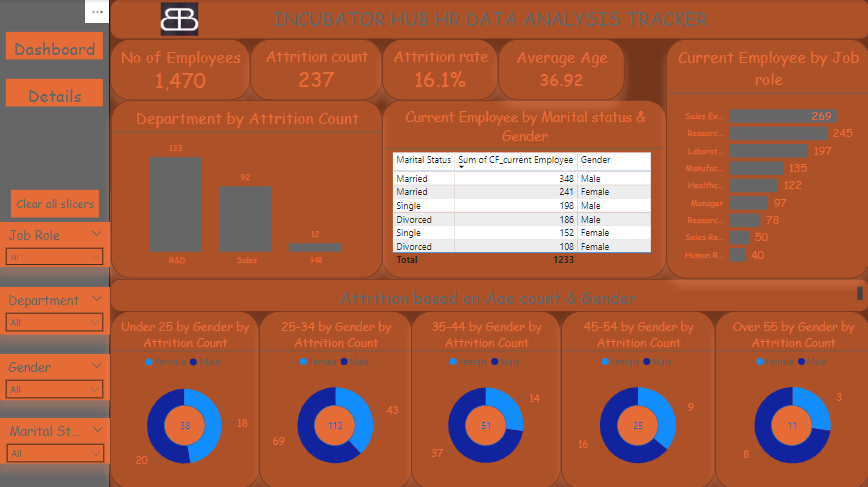

This screenshot's page, from the dashboard's own definition file:
{"tool":"powerbi","page":{"name":"HR view1","canvas":[1280,720],"ordinal":0},"visuals":[{"type":"textbox","box":[163,0,1117,59],"z":0},{"type":"card","title":"No of Employees","fields":{"Values":["Sum(HR data.Employee Count)"]},"box":[163,59,206,90],"z":1000},{"type":"slicer","title":"Current Employees","fields":{"Values":["HR data.Job Role"]},"box":[0,260,163,175],"z":2000},{"type":"card","title":"Attrition count","fields":{"Values":["Sum(HR data.Count of Attrition)"]},"box":[369,59,194,90],"z":3000},{"type":"card","title":"Attrition rate","fields":{"Values":["HR data.Attrition rate"]},"box":[563,59,170,90],"z":4000},{"type":"shape","box":[0,0,163,720],"z":5000},{"type":"actionButton","box":[11,48,142,40],"z":6000},{"type":"tableEx","title":"Current Employee by Marital status & Gender","fields":{"Values":["HR data.Marital Status","Sum(HR data.CF_current Employee)","HR data.Gender"]},"box":[563,149,418,262],"z":7000},{"type":"actionButton","box":[11,118,142,40],"z":8000},{"type":"slicer","title":"No of Employees","fields":{"Values":["HR data.Department"]},"box":[0,423,163,70],"z":9000},{"type":"slicer","title":"No of Employees","fields":{"Values":["HR data.Gender"]},"box":[0,521,163,68],"z":10000},{"type":"slicer","title":"No of Employees","fields":{"Values":["HR data.Job Role"]},"box":[0,327,163,66],"z":11000},{"type":"slicer","title":"No of Employees","fields":{"Values":["HR data.Marital Status"]},"box":[1,615,163,67],"z":12000},{"type":"card","title":"Average Age","fields":{"Values":["Avg(HR data.Age)"]},"box":[733,59,186,90],"z":13000},{"type":"columnChart","title":"Educatn field by Attrition Count","fields":{"Category":["HR data.Education Field"],"Y":["Sum(HR data.Count of Attrition)"]},"box":[164,149,399,262],"z":14000},{"type":"textbox","box":[163,411,1117,48],"z":15000},{"type":"image","box":[228,0,75,59],"z":16000},{"type":"clusteredBarChart","title":"Current Employee by Job role","fields":{"Category":["HR data.Job Role"],"Y":["Sum(HR data.CF_current Employee)"]},"box":[980,59,300,352],"z":17000},{"type":"donutChart","title":"Under 25 by Gender by Attrition Count","fields":{"Category":["HR data.Gender"],"Y":["Sum(HR data.Count of Attrition)"],"Series":["HR data.CF_age band"]},"box":[163,458,218.5,262],"z":18000},{"type":"actionButton","box":[17,280,129,40],"z":19000},{"type":"donutChart","title":"25-34 by Gender by Attrition Count","fields":{"Category":["HR data.Gender"],"Y":["Sum(HR data.Count of Attrition)"],"Series":["HR data.CF_age band"]},"box":[381.5,458,224.5,262],"z":20000},{"type":"donutChart","title":"35-44 by Gender by Attrition Count","fields":{"Category":["HR data.Gender"],"Y":["Sum(HR data.Count of Attrition)"],"Series":["HR data.CF_age band"]},"box":[606,458,220,262],"z":21000},{"type":"donutChart","title":"45-54 by Gender by Attrition Count","fields":{"Category":["HR data.Gender"],"Y":["Sum(HR data.Count of Attrition)"],"Series":["HR data.CF_age band"]},"box":[826,458,226,262],"z":22000},{"type":"donutChart","title":"Over 55 by Gender by Attrition Count","fields":{"Category":["HR data.Gender"],"Y":["Sum(HR data.Count of Attrition)"],"Series":["HR data.CF_age band"]},"box":[1052,458,228,262],"z":23000},{"type":"shape","box":[242,597,61,60],"z":24000},{"type":"shape","box":[1135,597,61,60],"z":25000},{"type":"shape","box":[908,597,61,60],"z":26000},{"type":"shape","box":[685,597,61,60],"z":27000},{"type":"shape","box":[463,597,61,60],"z":28000}]}

Visuals, with their boxes in screenshot pixels (x1, y1, x2, y2), scaled from the page's 1280x720 canvas onto the 868x487 screenshot:
textbox: l=111, t=0, r=867, b=40
"No of Employees" card: l=111, t=40, r=250, b=101
"Current Employees" slicer: l=0, t=176, r=111, b=294
"Attrition count" card: l=250, t=40, r=382, b=101
"Attrition rate" card: l=382, t=40, r=497, b=101
shape: l=0, t=0, r=111, b=486
actionButton: l=7, t=32, r=104, b=60
"Current Employee by Marital status & Gender" tableEx: l=382, t=101, r=665, b=278
actionButton: l=7, t=80, r=104, b=107
"No of Employees" slicer: l=0, t=286, r=111, b=333
"No of Employees" slicer: l=0, t=352, r=111, b=398
"No of Employees" slicer: l=0, t=221, r=111, b=266
"No of Employees" slicer: l=1, t=416, r=111, b=461
"Average Age" card: l=497, t=40, r=623, b=101
"Educatn field by Attrition Count" columnChart: l=111, t=101, r=382, b=278
textbox: l=111, t=278, r=867, b=310
image: l=155, t=0, r=205, b=40
"Current Employee by Job role" clusteredBarChart: l=665, t=40, r=867, b=278
"Under 25 by Gender by Attrition Count" donutChart: l=111, t=310, r=259, b=486
actionButton: l=12, t=189, r=99, b=216
"25-34 by Gender by Attrition Count" donutChart: l=259, t=310, r=411, b=486
"35-44 by Gender by Attrition Count" donutChart: l=411, t=310, r=560, b=486
"45-54 by Gender by Attrition Count" donutChart: l=560, t=310, r=713, b=486
"Over 55 by Gender by Attrition Count" donutChart: l=713, t=310, r=867, b=486
shape: l=164, t=404, r=205, b=444
shape: l=770, t=404, r=811, b=444
shape: l=616, t=404, r=657, b=444
shape: l=465, t=404, r=506, b=444
shape: l=314, t=404, r=355, b=444
